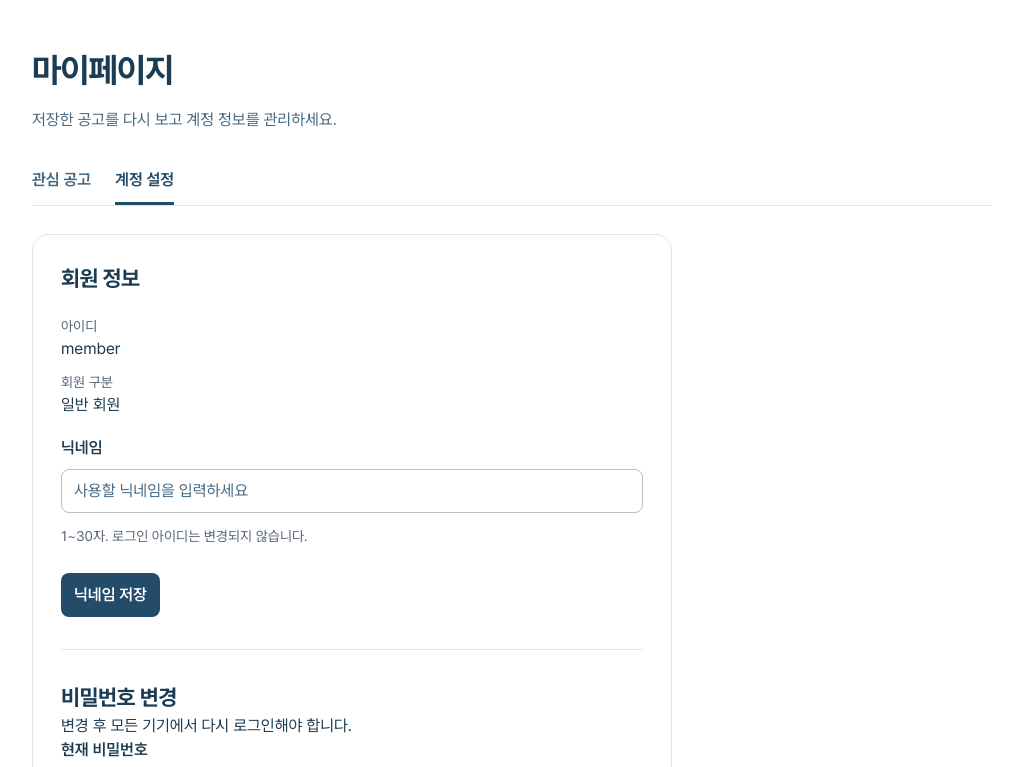
Scenario: 본인 아이디와 회원 구분을 조회하고 닉네임 저장 성공을 표시한다
The width and height of the screenshot is (1024, 767).
In the field with id "nickname": [352, 491] box [61,469,643,513], type "새 이름"
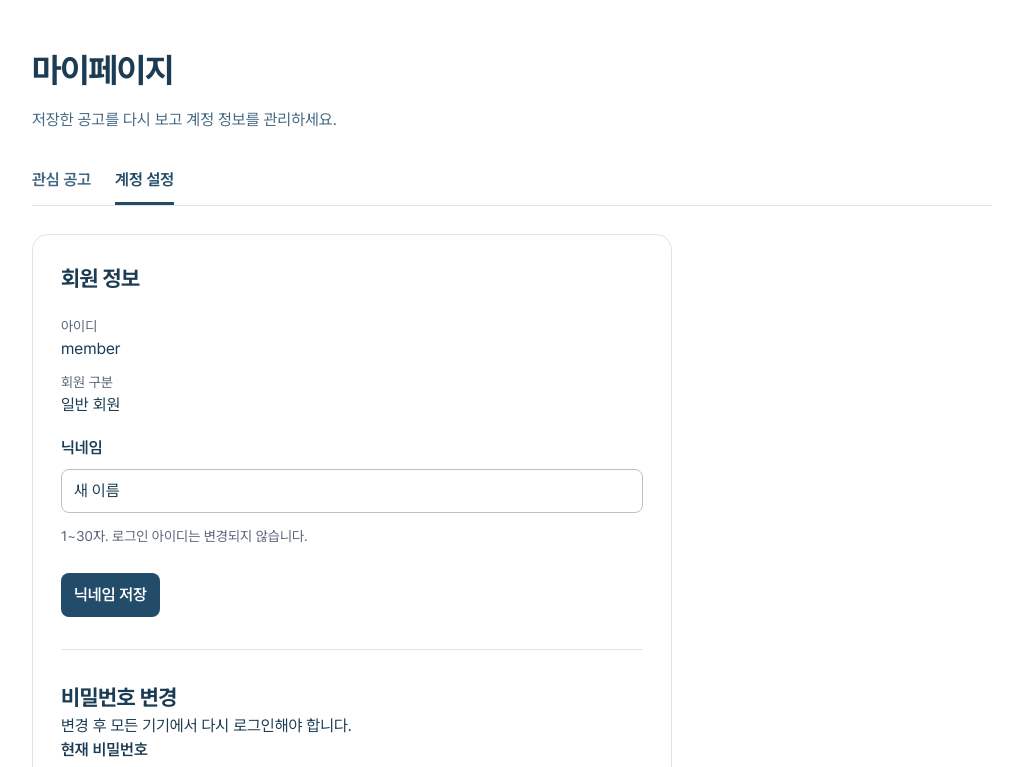
Submit the form with test id "nickname-form", box [61,438,643,617]
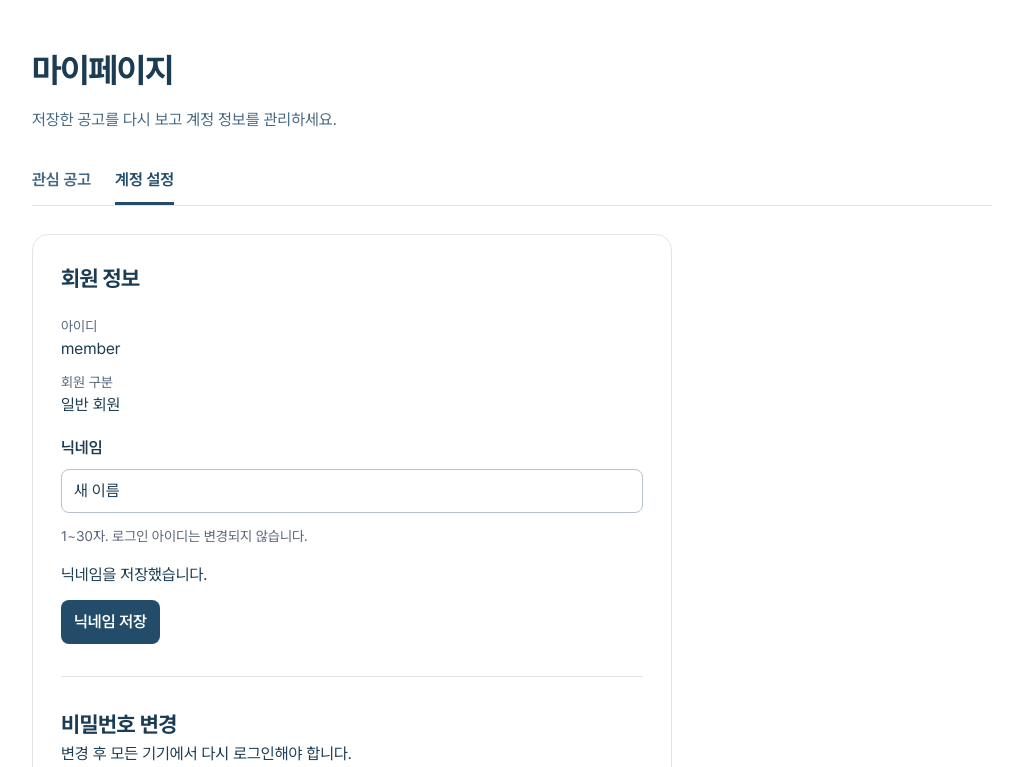
expect the text "닉네임을 저장했습니다" is shown: met, box [61,565,207,584]
